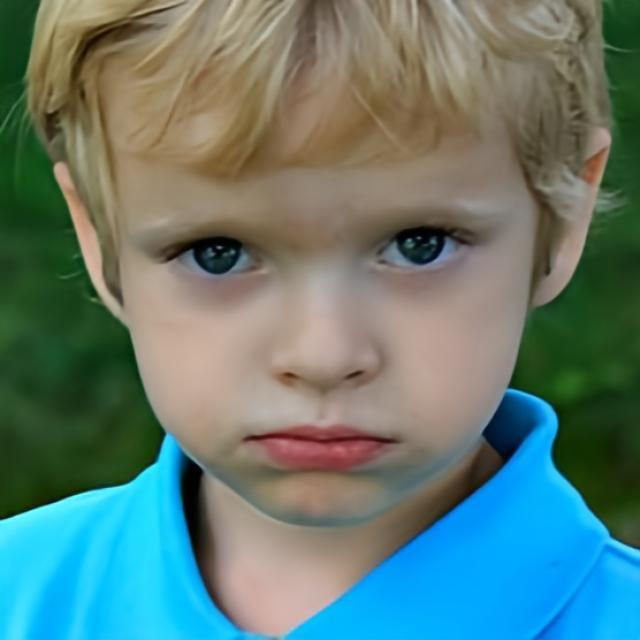sad: (122, 13, 527, 525)
